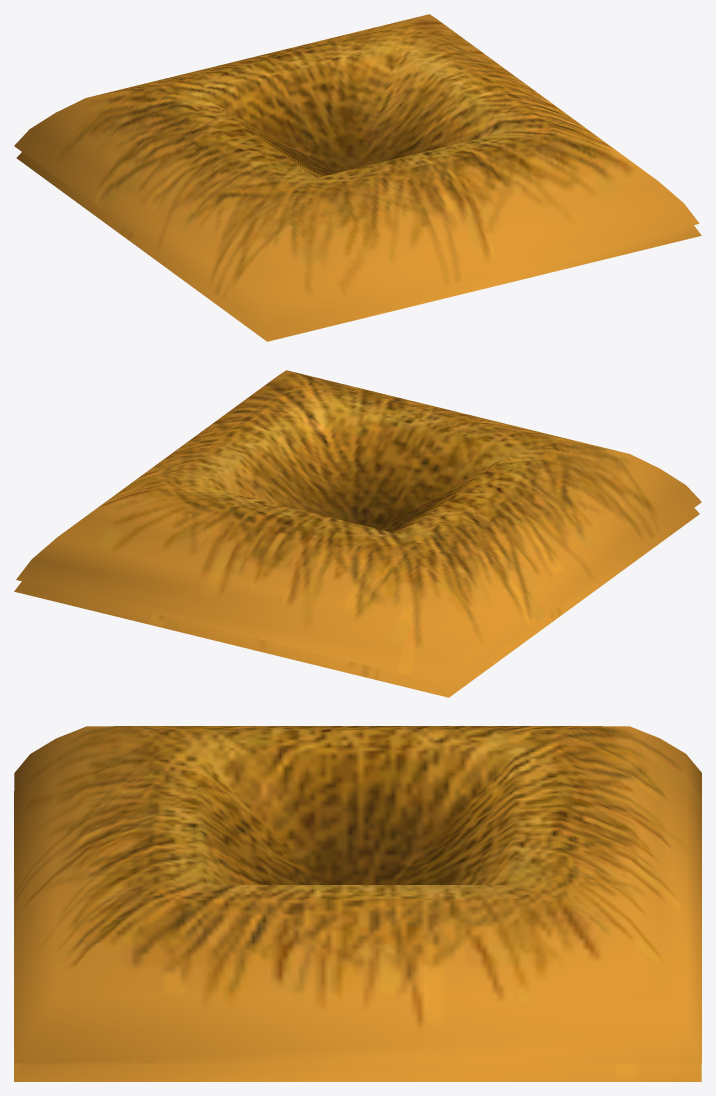
Rendered from INST_HTOWN_CHICKENNEST.fbx.
3 renders of one model, top to bottom at view 1: azimuth 30°, elevation 25°; view 2: azimuth 150°, elevation 25°; view 3: azimuth 270°, elevation 25°, orthographic. The views are drawn at different scales.
Parts seen in each view (by area): view 1: INST_HTOWN_CHICKENNEST; view 2: INST_HTOWN_CHICKENNEST; view 3: INST_HTOWN_CHICKENNEST.
Part boxes in pixels (<box>): INST_HTOWN_CHICKENNEST: <box>14,14,701,341</box>; INST_HTOWN_CHICKENNEST: <box>14,370,701,697</box>; INST_HTOWN_CHICKENNEST: <box>14,726,701,1081</box>.
Bounding box in the file's own units: 8674 × 1883 × 8639.
Materials: 2 (2 with a texture image).
